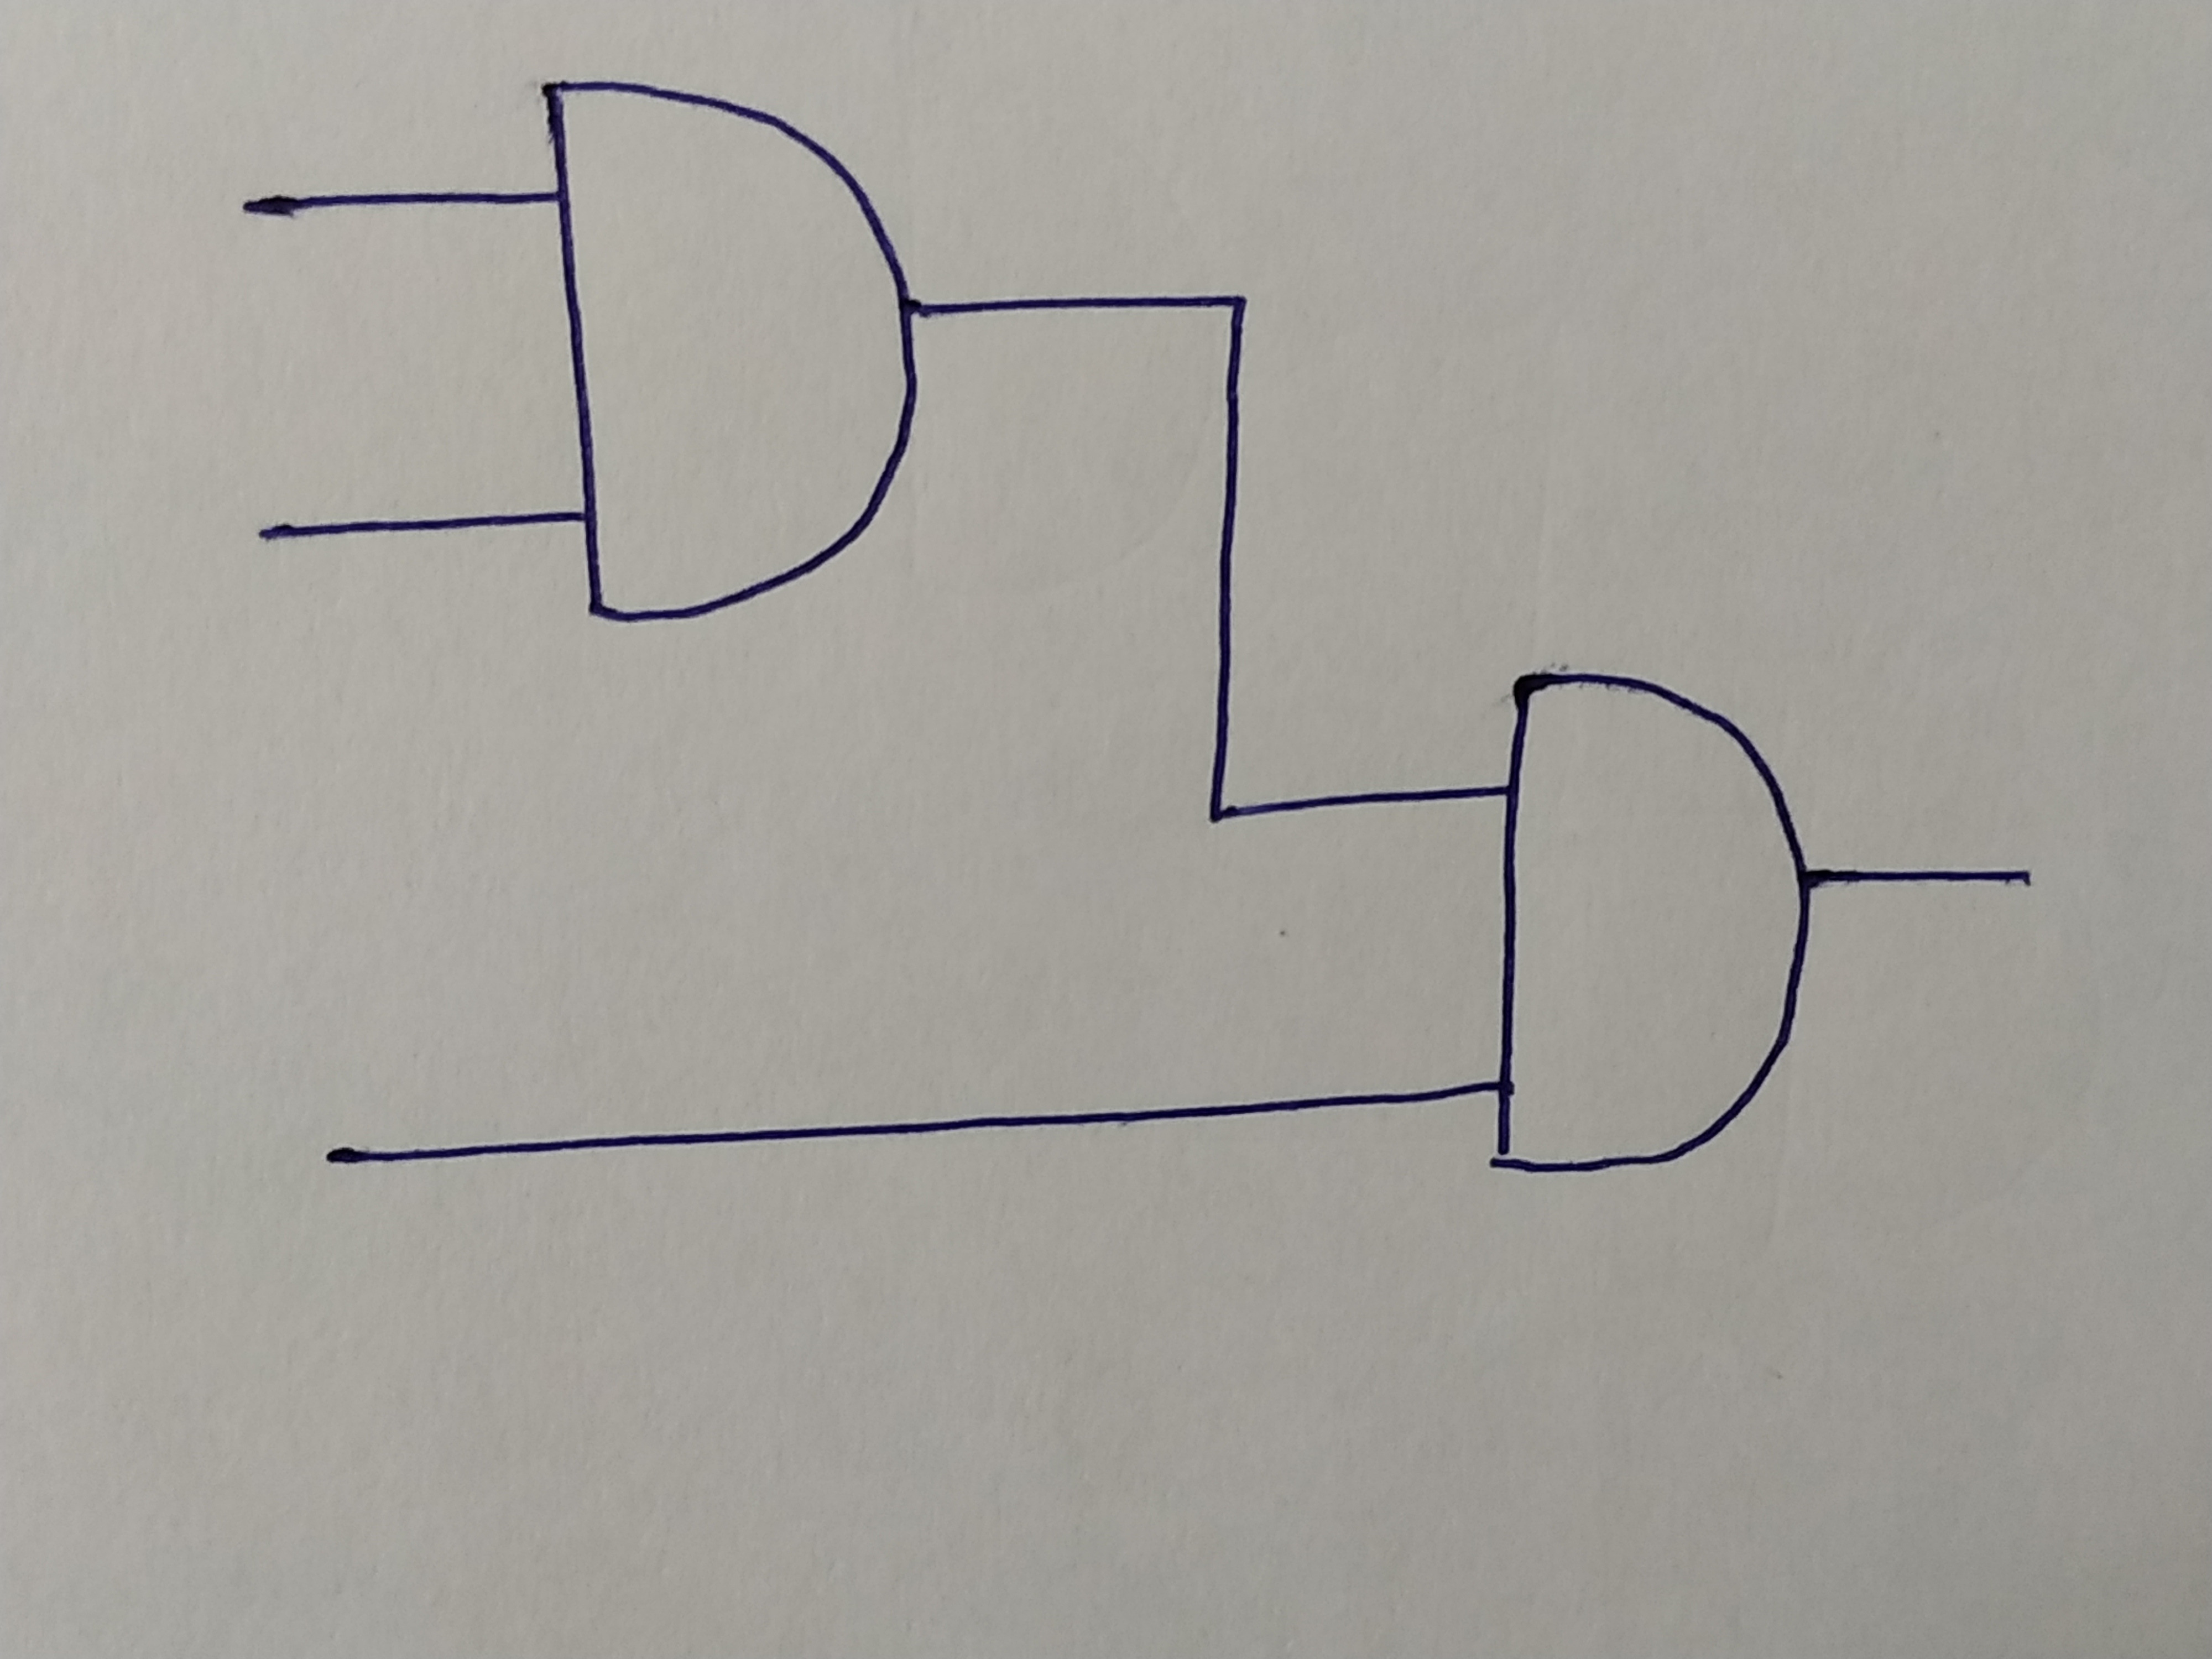and: (549, 82, 920, 617), (1489, 673, 1815, 1173)
